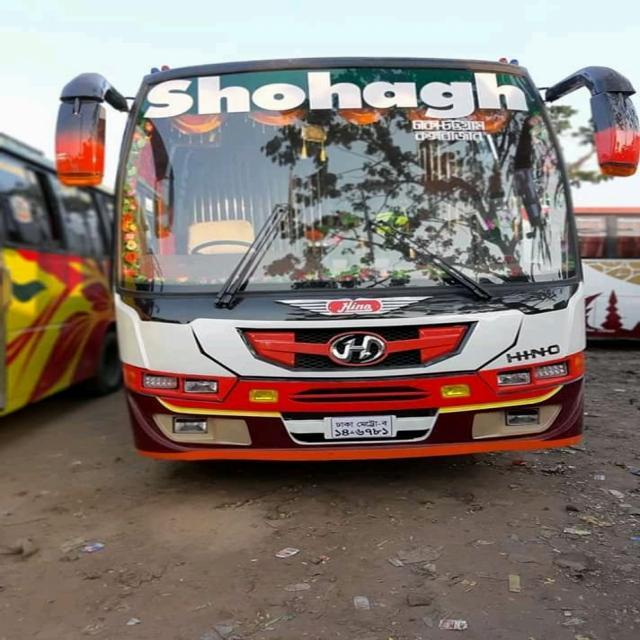bus: (54, 58, 640, 463)
